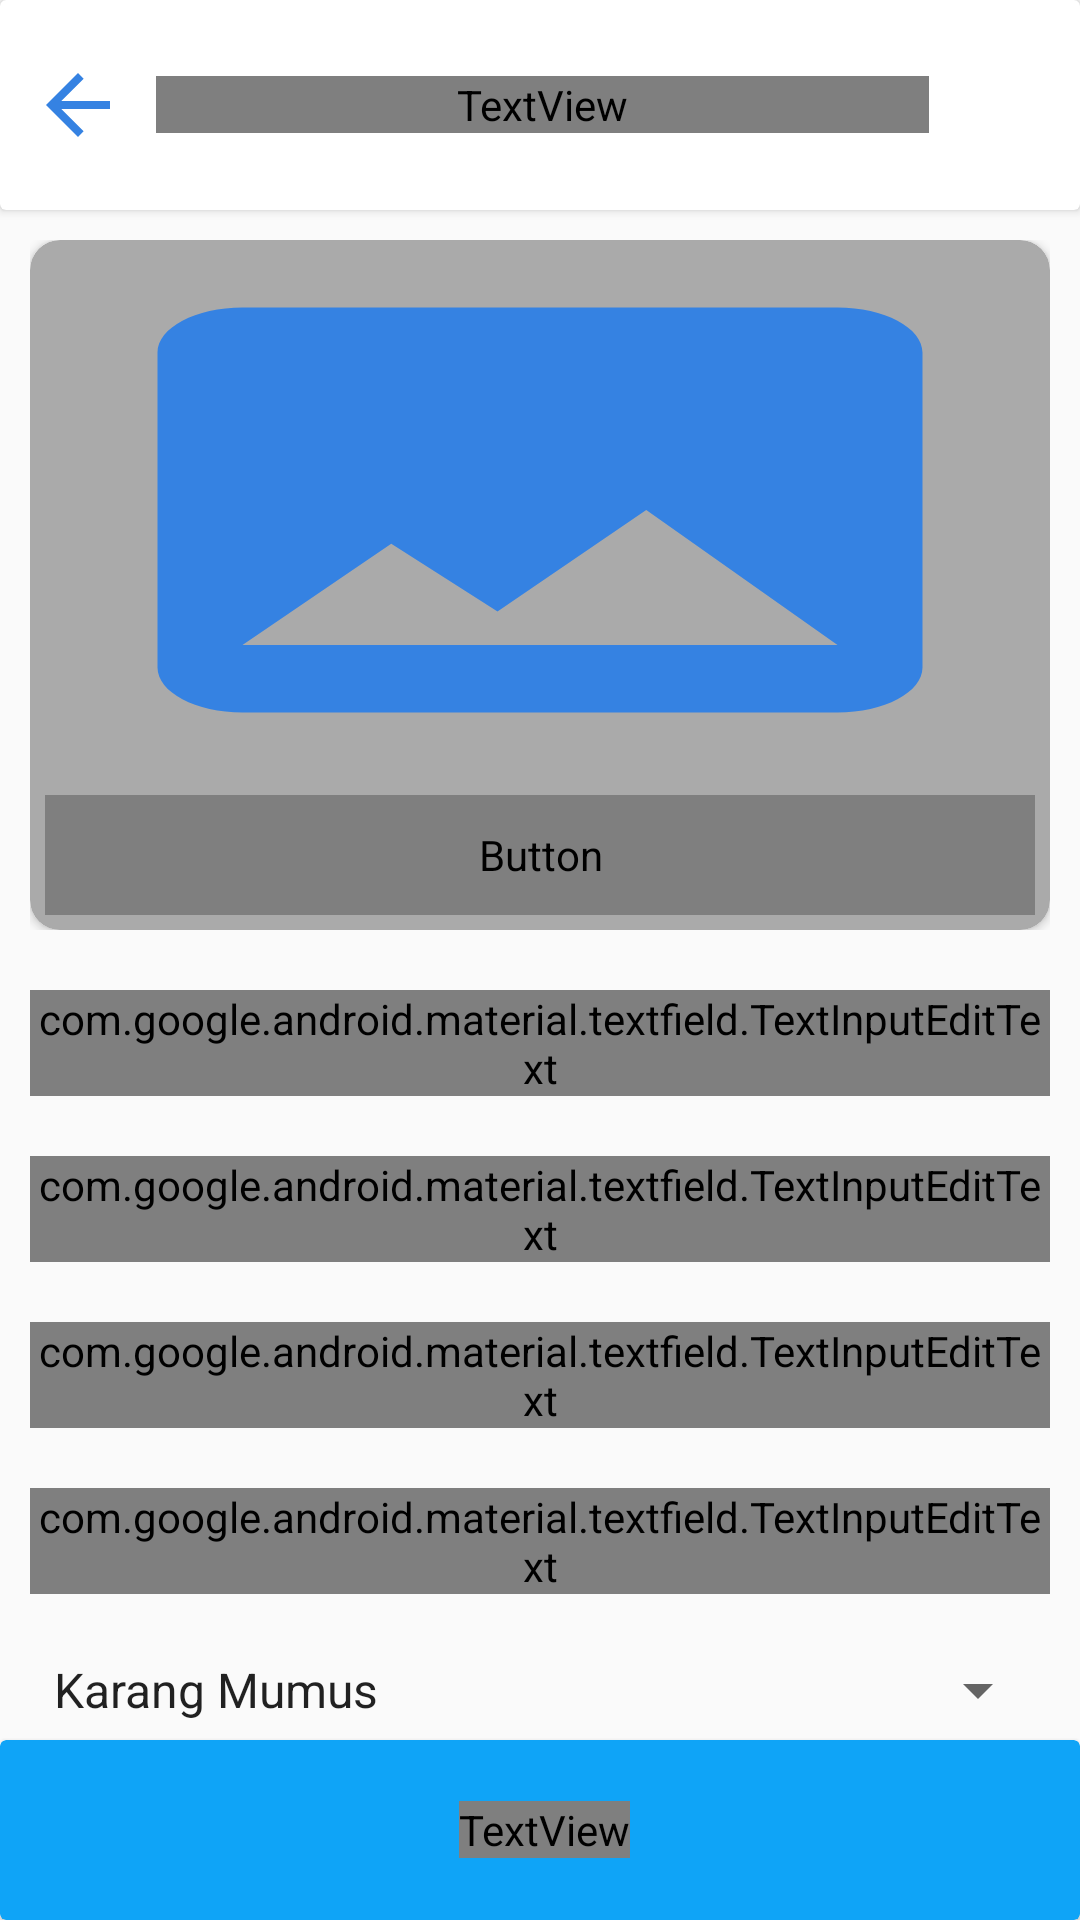

Where to tap for icons on this 1080x1920 app screen, as point (x, y):
arrow back: point (78, 105)
